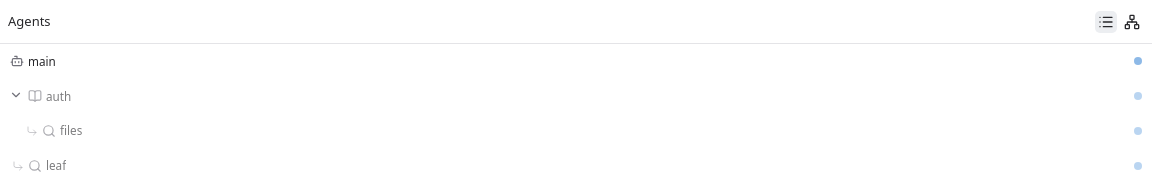
SubagentsPanel › collapses and expands a row's nested subagents
The width and height of the screenshot is (1152, 189).
Expected: the link "files" is shown, [26,122,1142,138]
Click the button with test id "subagent-collapse-toggle": x=16, y=95 [8,87,24,103]
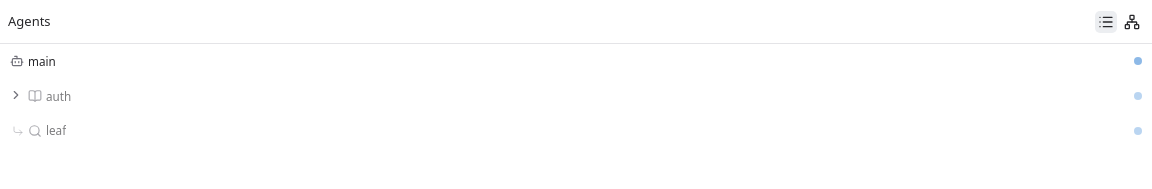
Result: the button with test id "subagent-collapse-toggle" is collapsed
Click the button with test id "subagent-collapse-toggle": x=16, y=95 [8,87,24,103]
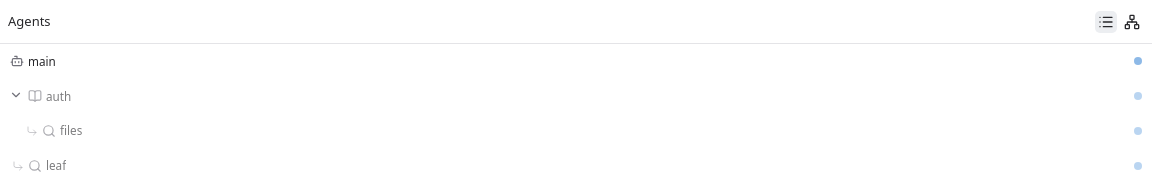
Result: the link "files" is shown at [26,122,1142,138]
Result: the button with test id "subagent-collapse-toggle" is expanded at [8,87,24,103]
